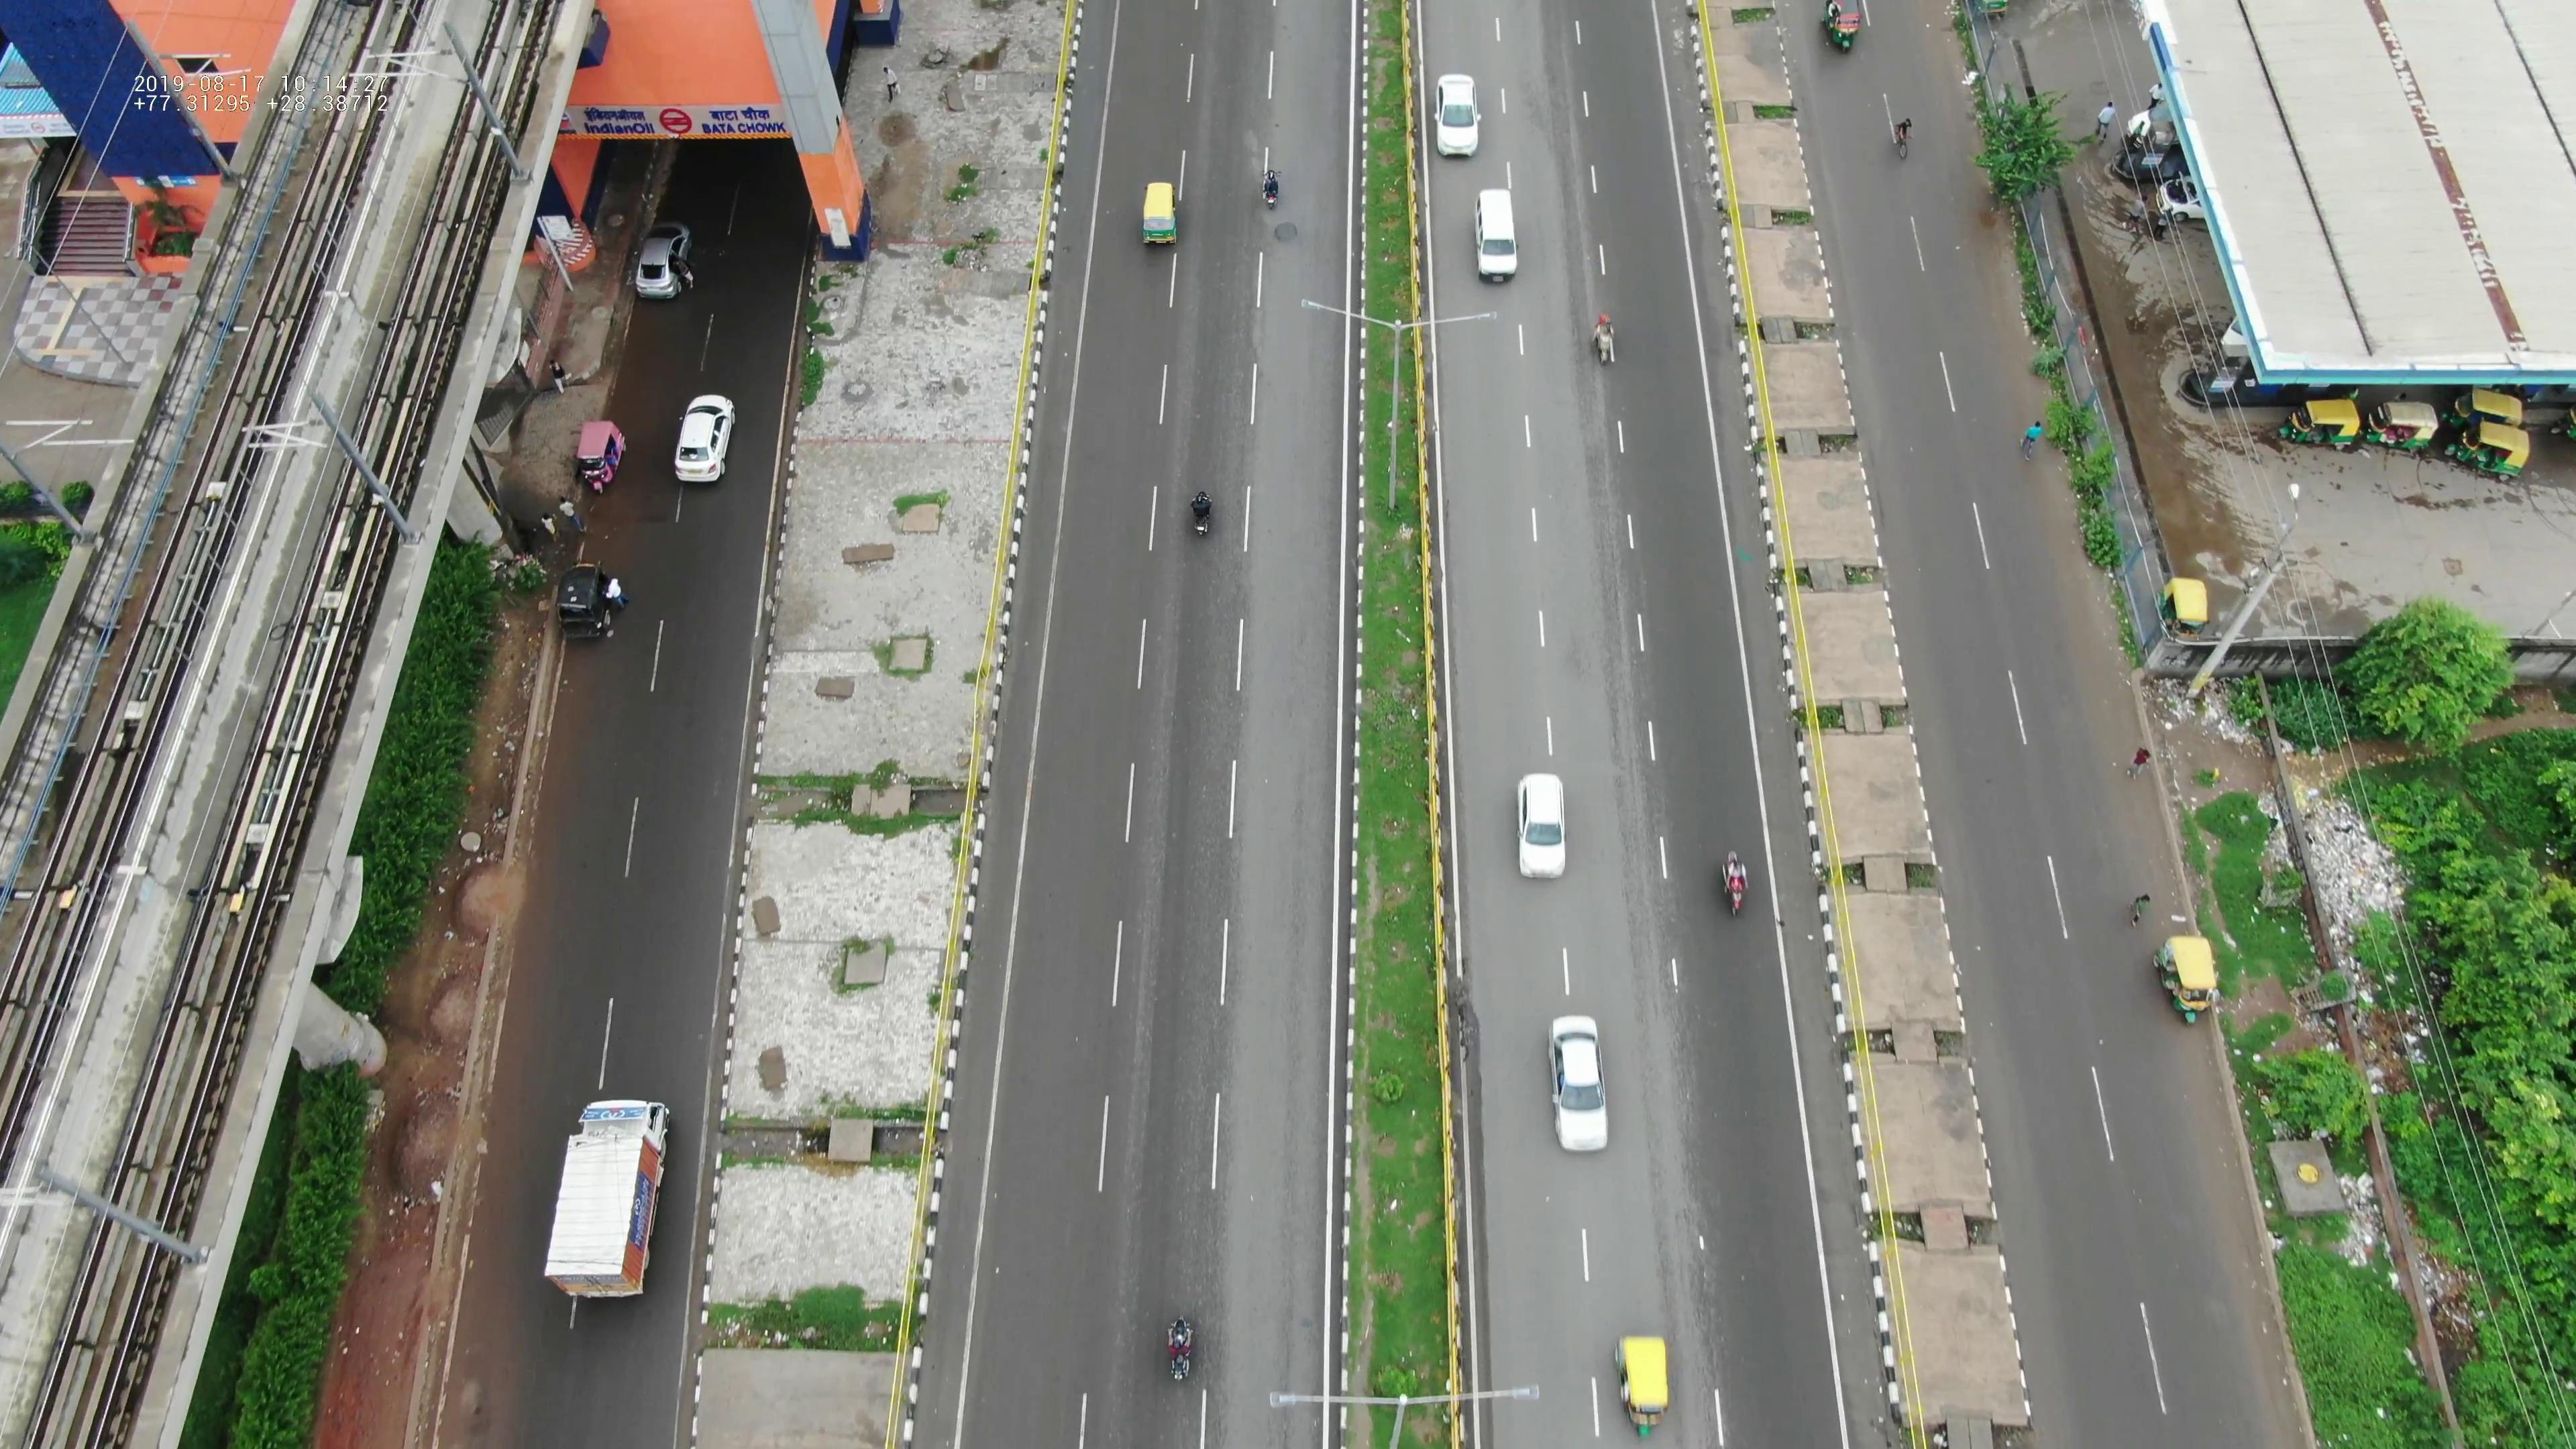Potholes: (1261, 205, 1318, 315)
